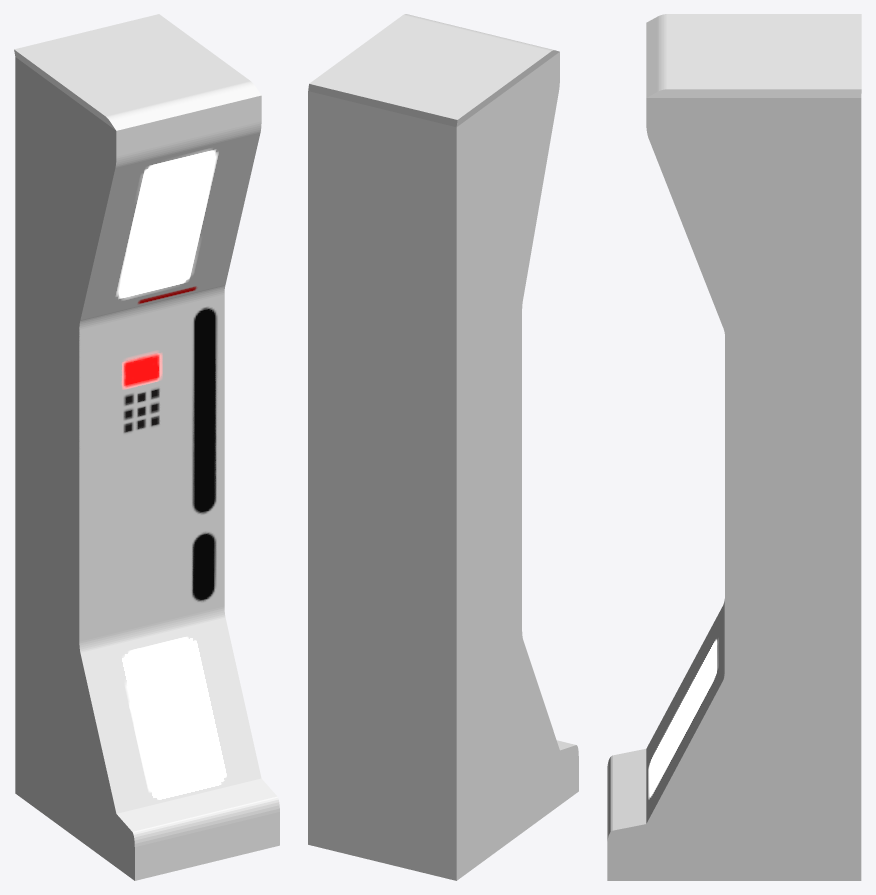
File: Lv2_HandOfDominion_ColumnVariant.fbx
3 renders of one model, left to right at view 1: azimuth 30°, elevation 25°; view 2: azimuth 150°, elevation 25°; view 3: azimuth 270°, elevation 25°, orthographic. The views are drawn at different scales.
Visible parts, largest first — view 1: ColumnVariant1; view 2: ColumnVariant1; view 3: ColumnVariant1.
Boxes of the visible parts, x1,y1,x2,y2 form: ColumnVariant1: (14, 14, 279, 880); ColumnVariant1: (308, 14, 578, 880); ColumnVariant1: (607, 14, 861, 880).
Bounding box in the file's own units: 94.19 × 458 × 134.
